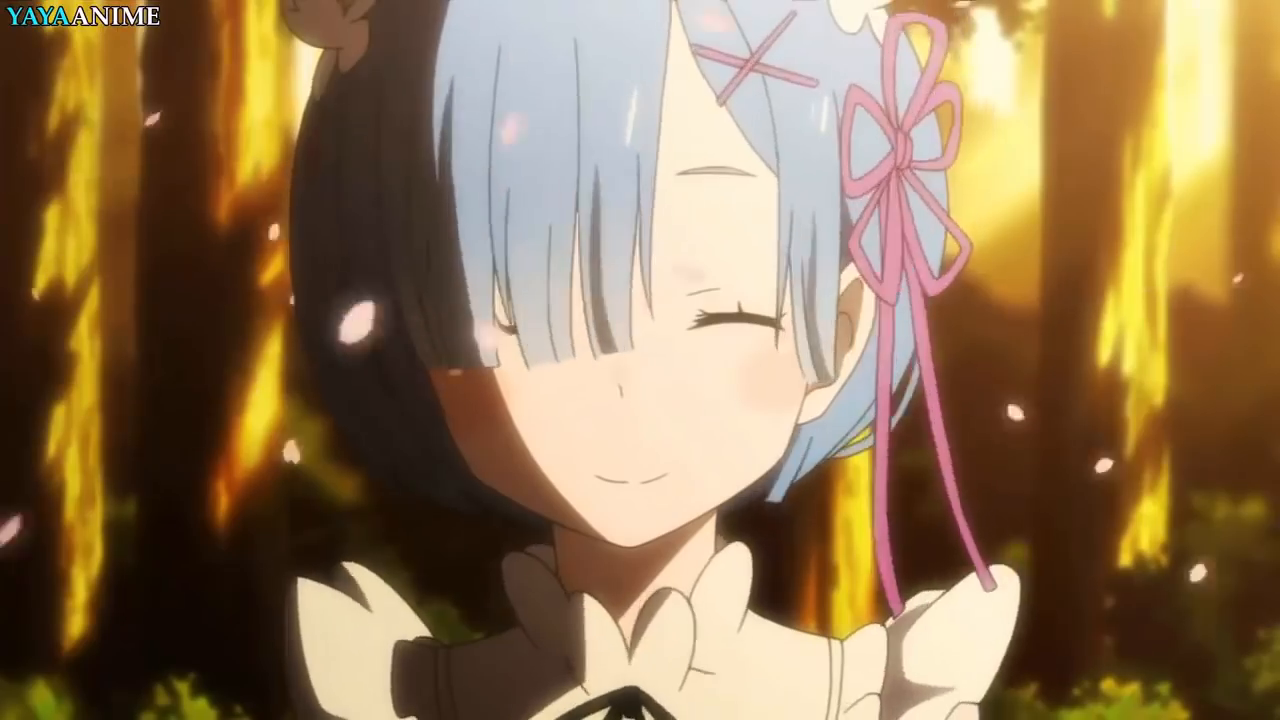REM: (274, 4, 954, 550)
